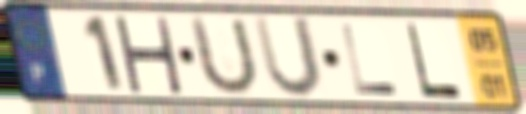1: (83, 13, 128, 95)
H: (109, 13, 185, 96)
L: (403, 20, 465, 102), (337, 22, 403, 97)
U: (249, 13, 326, 102), (188, 13, 261, 99)
